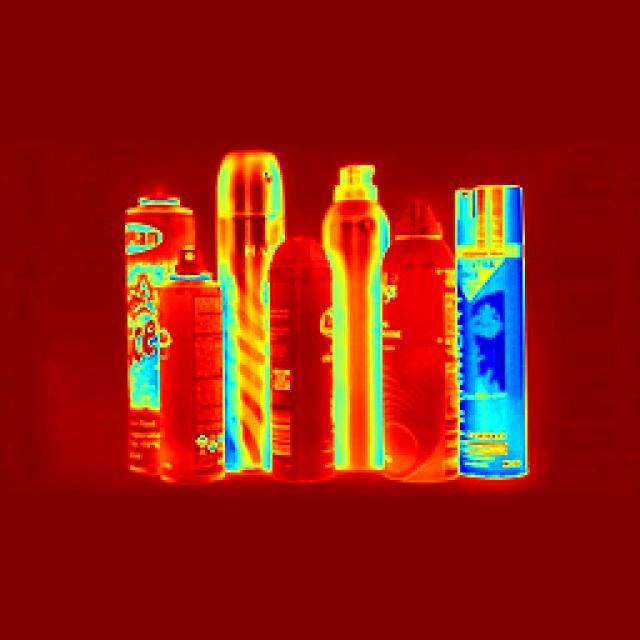Aerosol Cans: (312, 155, 393, 486), (380, 198, 470, 492), (450, 186, 535, 485), (211, 138, 282, 482), (261, 233, 341, 498), (161, 241, 242, 493)
